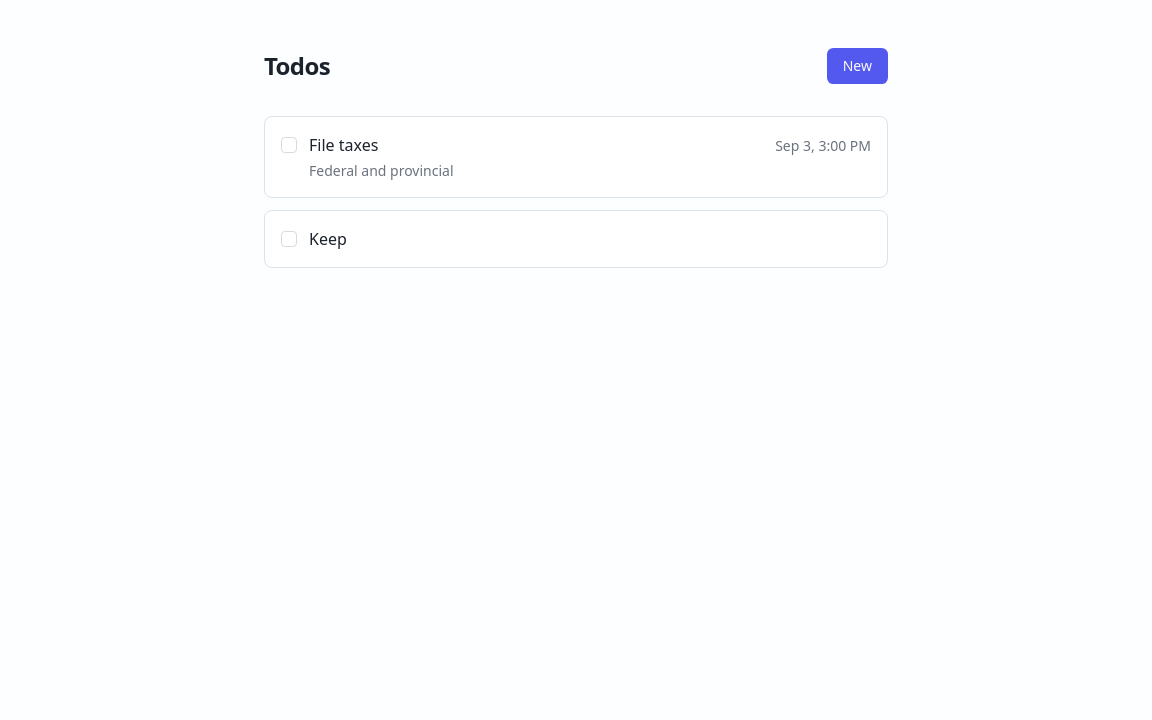
Test: deleting a todo › asks for confirmation inline, can be cancelled, and deletes on confirm
The image size is (1152, 720).
Click the button "File taxes Sep 3, 3:00 PM Federal and provincial". click: (344, 145)
box: 305,129 -> 875,185
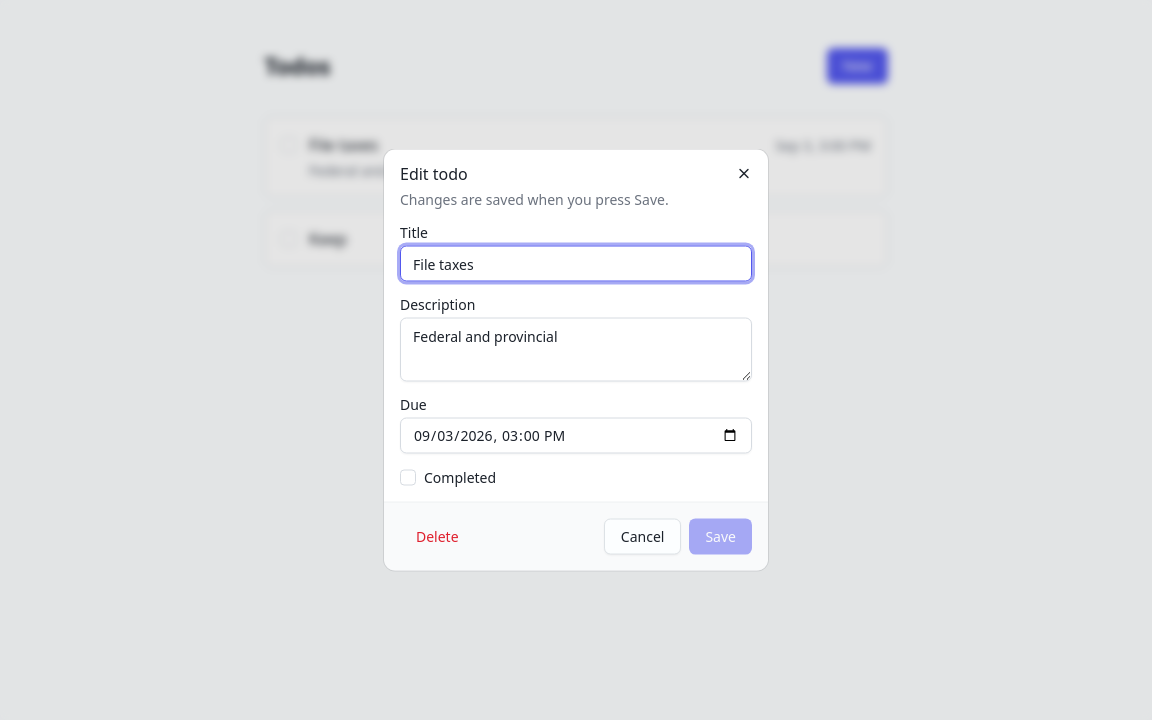
Click the button "Delete". click: (437, 536)
box: 400,518 -> 475,554
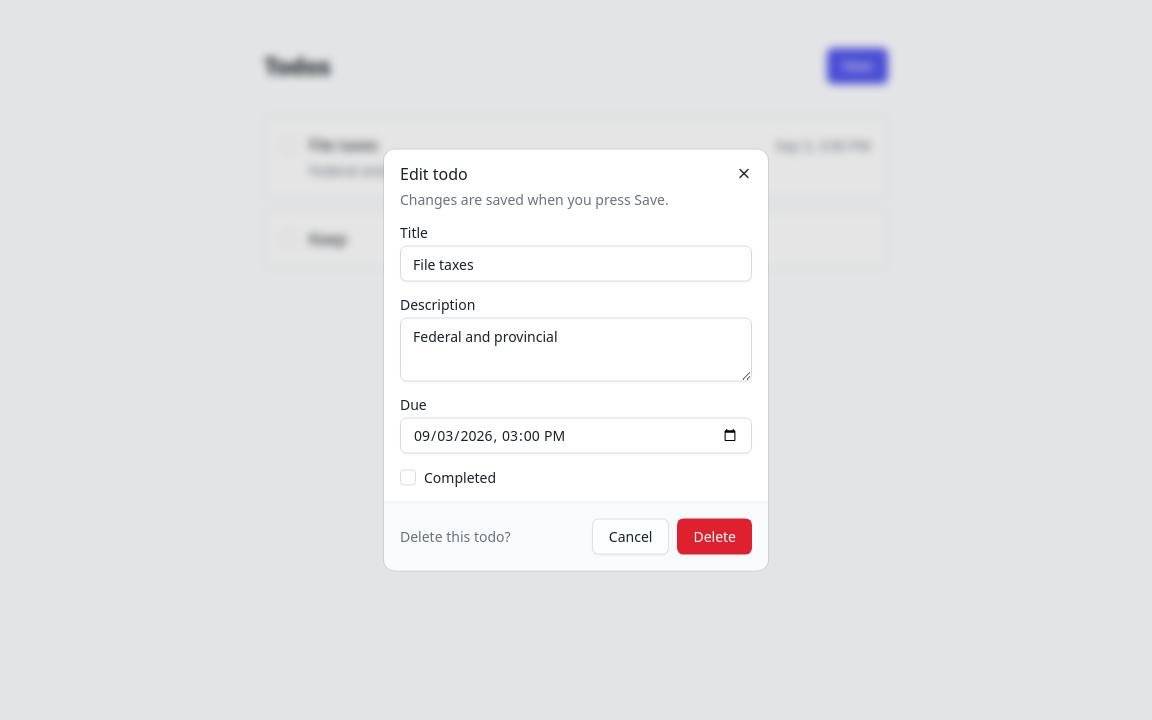
Expected: the text "Delete this todo?" is shown, 400,526 -> 511,546
Click the button "Cancel". click: (631, 536)
box: 592,518 -> 669,554
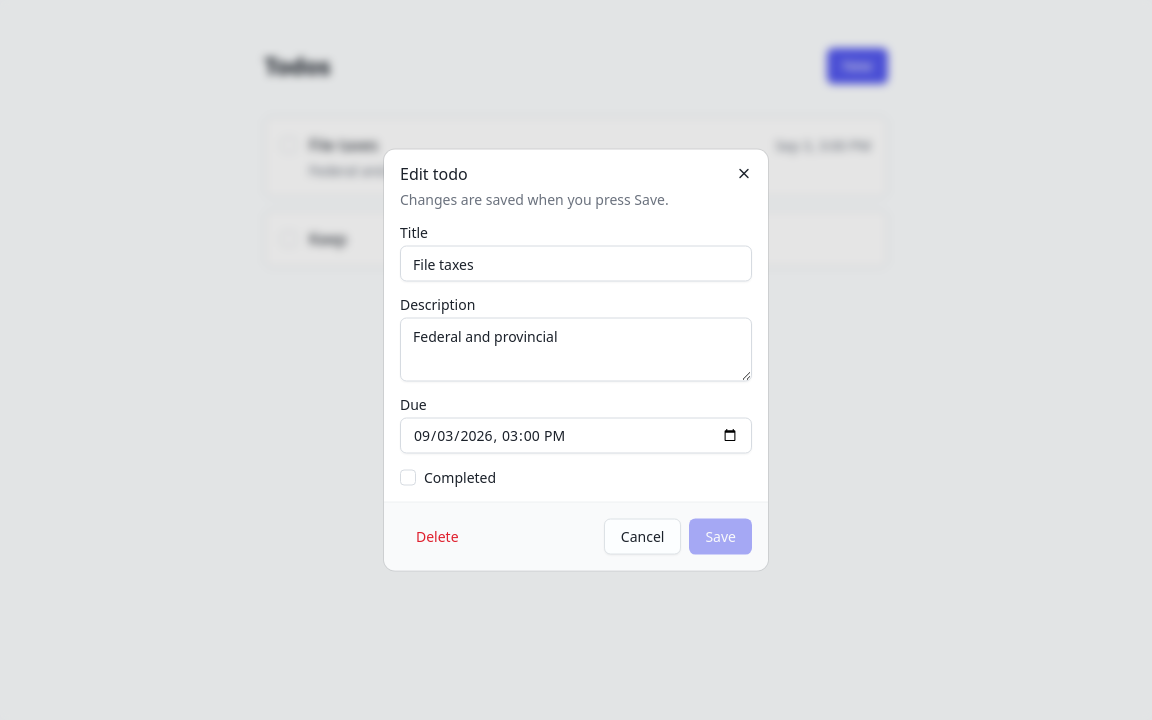
Expected: the dialog is shown, 384,150 -> 768,570
Expected: the text "Delete this todo?" is gone
Expected: the button "Save" is shown, 689,518 -> 752,554
Click the button "Delete". click: (437, 536)
box: 400,518 -> 475,554
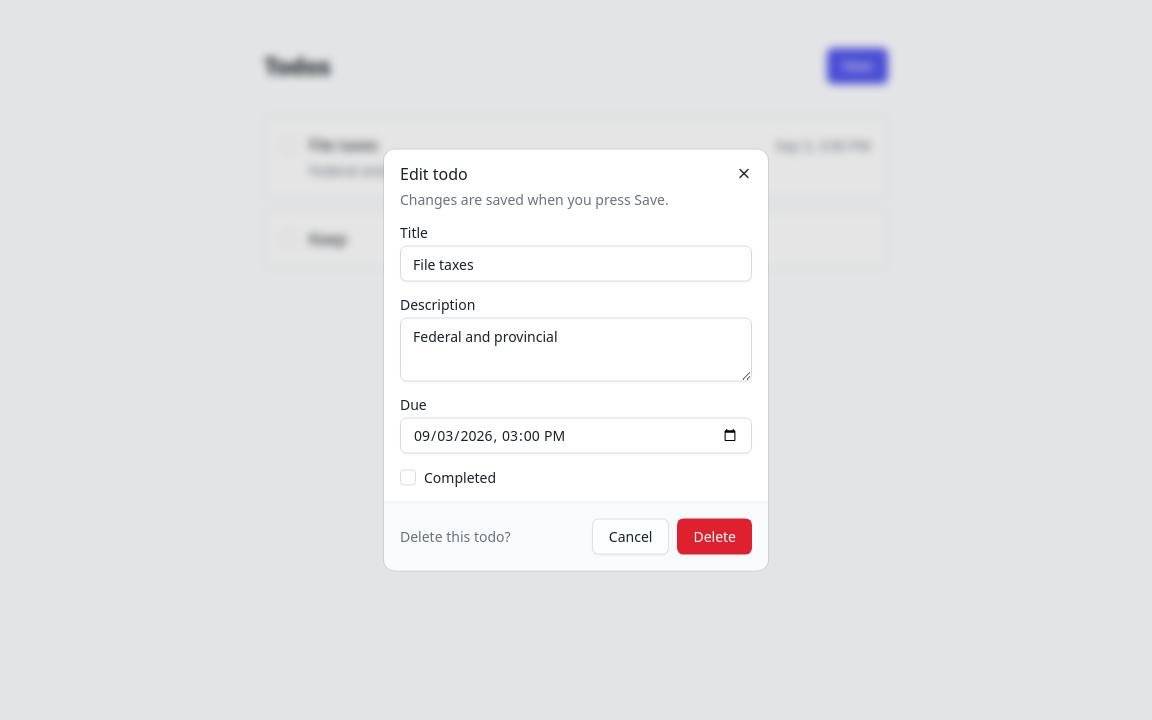
Click the button "Delete". click: (715, 536)
box: 677,518 -> 752,554
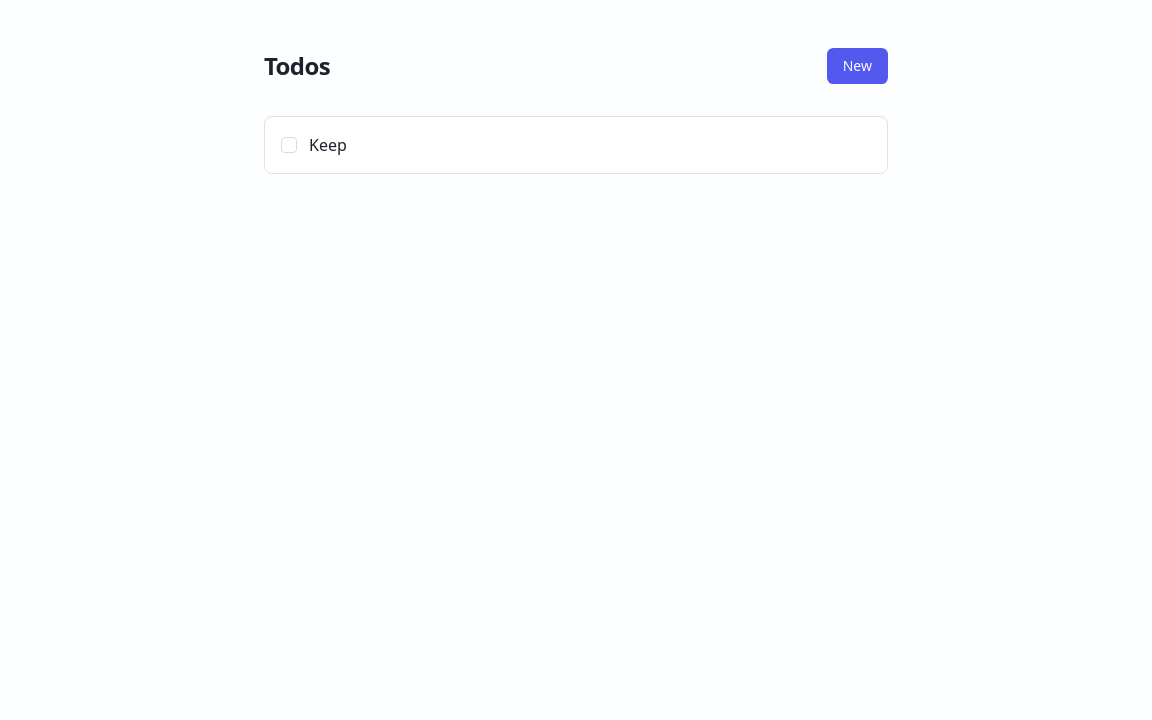
Expected: the button "Keep" is shown, 305,129 -> 875,161
Expected: the dialog is gone
Expected: the button "File taxes" is gone
